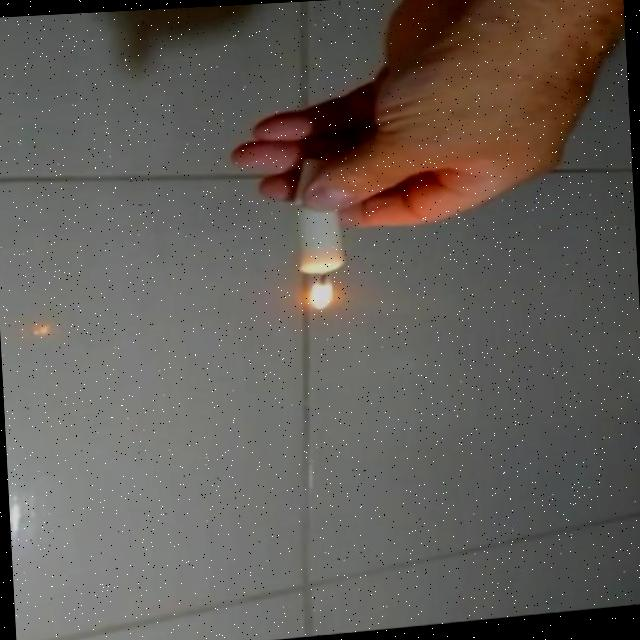fire: (295, 275, 341, 317)
